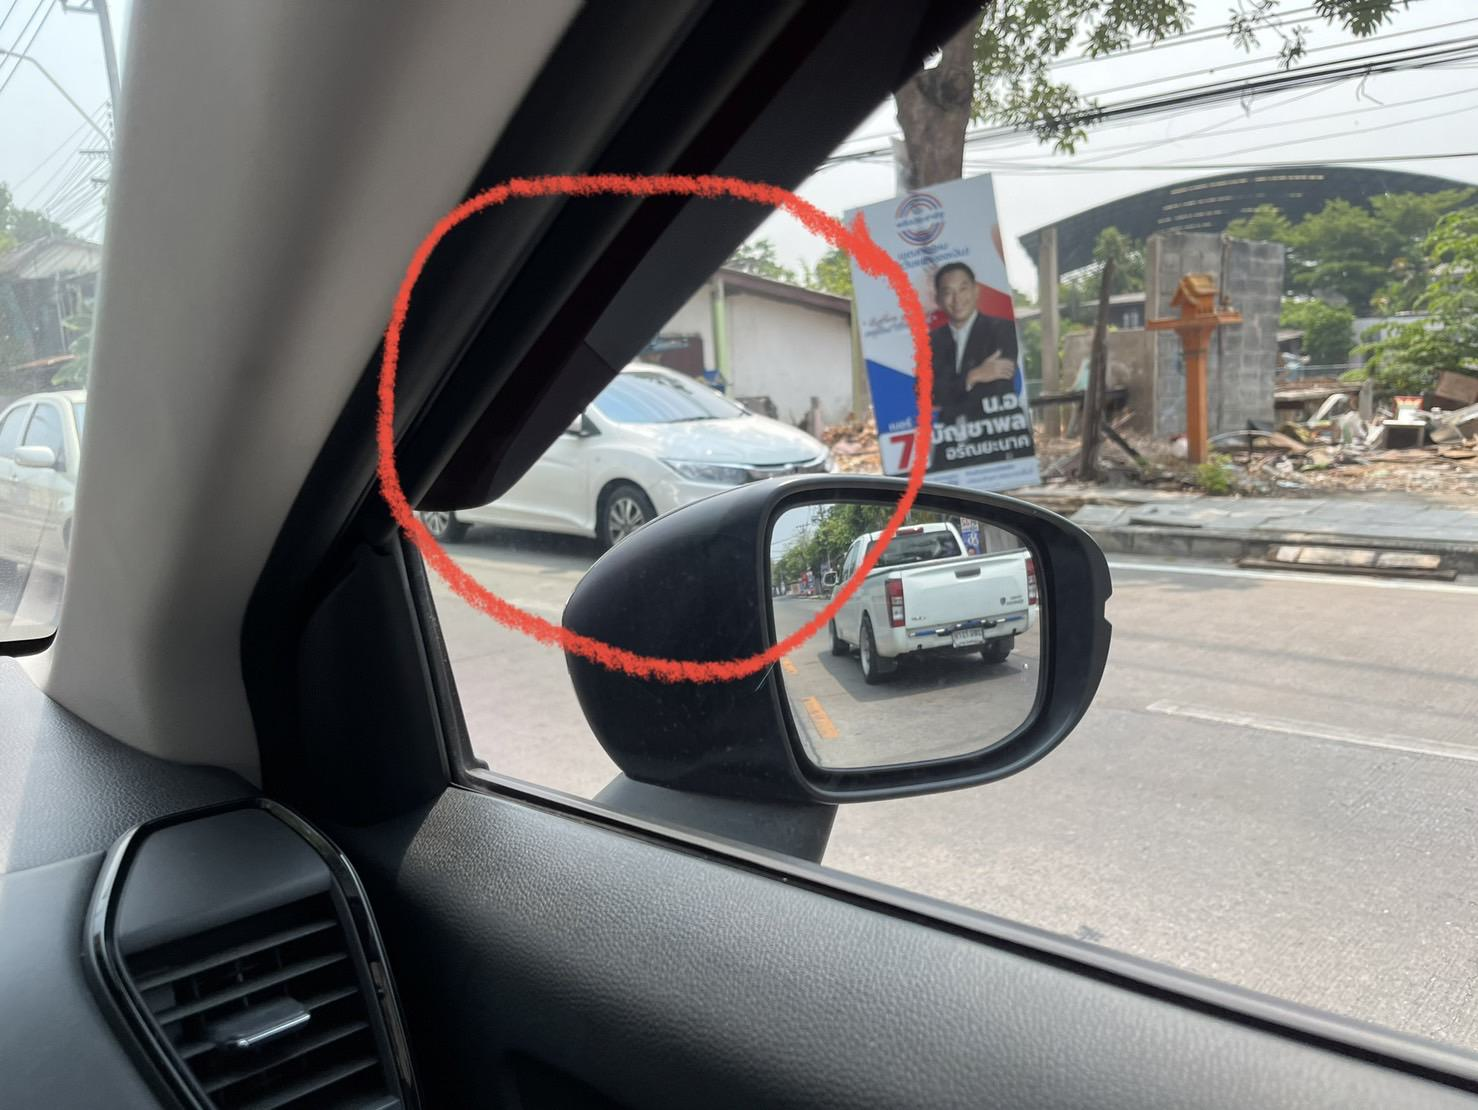Banner: (849, 171, 1047, 492)
